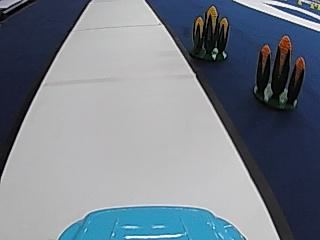corn: (247, 30, 310, 110), (186, 4, 234, 64)
